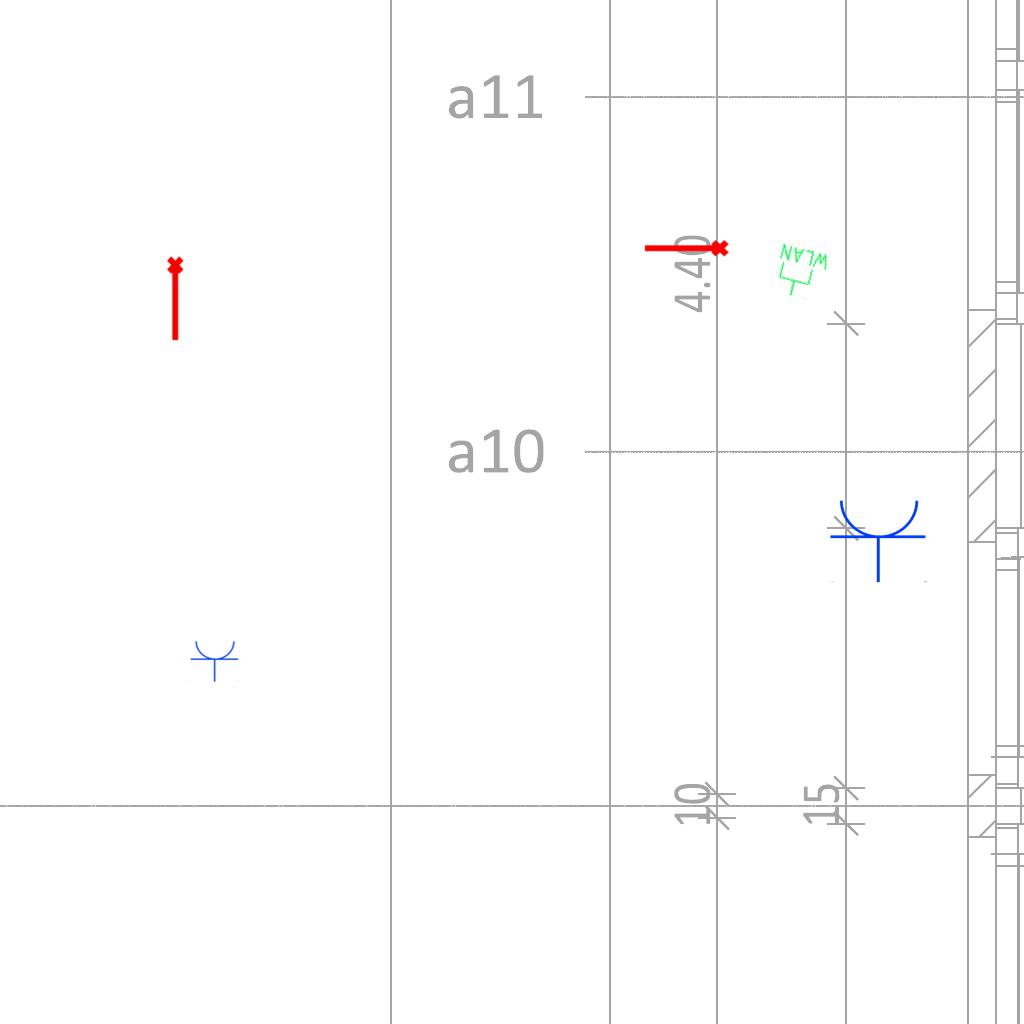ASR_Ansaugoeffnung: (165, 255, 188, 343), (642, 238, 730, 261)
Schukosteckdose_einfach: (829, 496, 929, 583), (190, 639, 240, 682)
WLAN: (769, 241, 833, 305)
